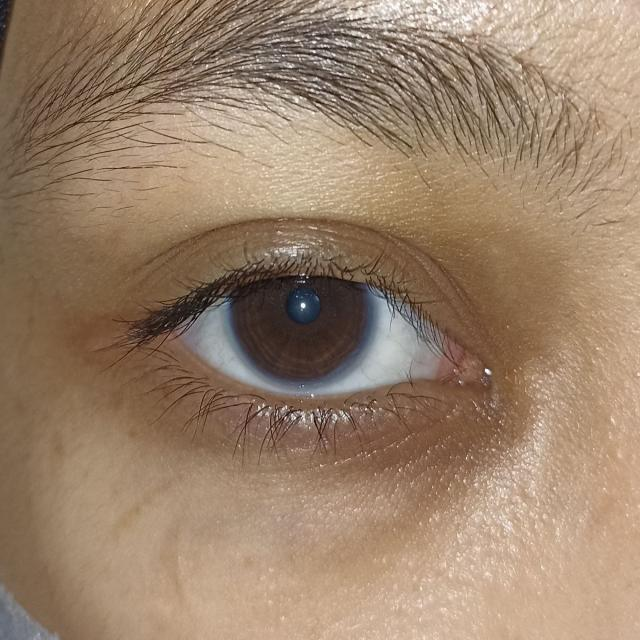Normal: (228, 236, 382, 385)
